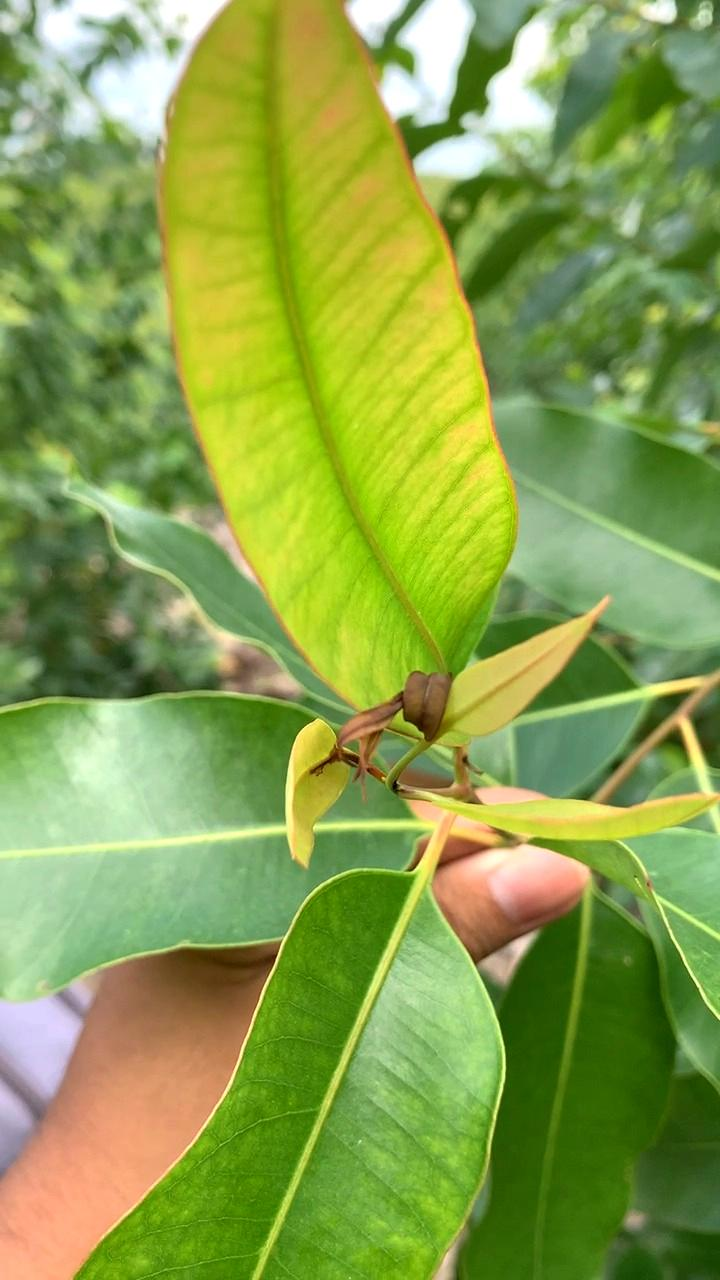Helopeltis-Withered Sprout: (326, 665, 459, 790)
